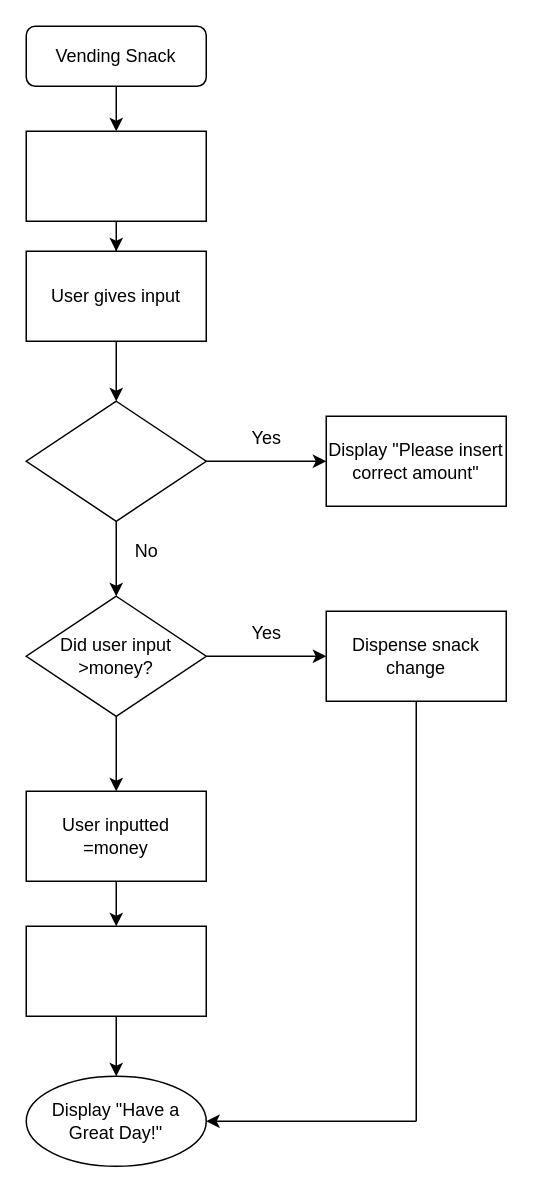
Image size: 533x1193. Some labels were removed from this diagram. Here are the shapes that lost their labels. From the top down, the box of each, then its label:
(25, 130, 206, 221): Display "Please make your selection"
(25, 400, 206, 521): Did user input <money?
(25, 925, 206, 1016): Dispense Snack
